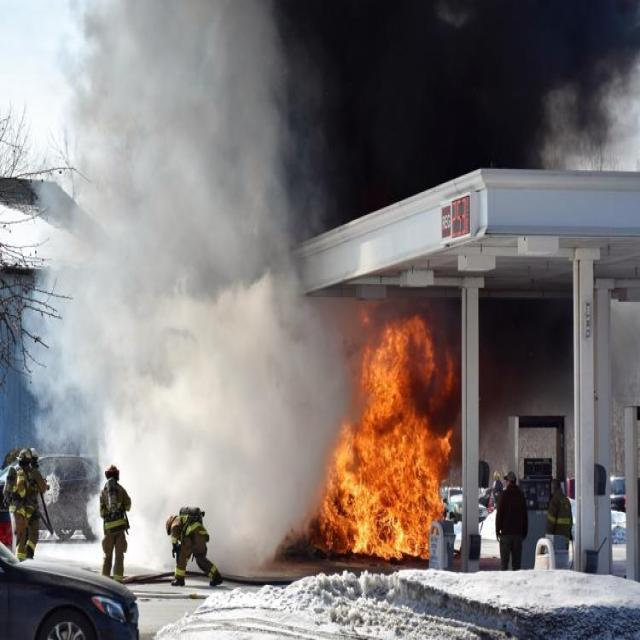Fire: (317, 307, 460, 563)
Smoke: (20, 0, 366, 573), (274, 0, 640, 242)
